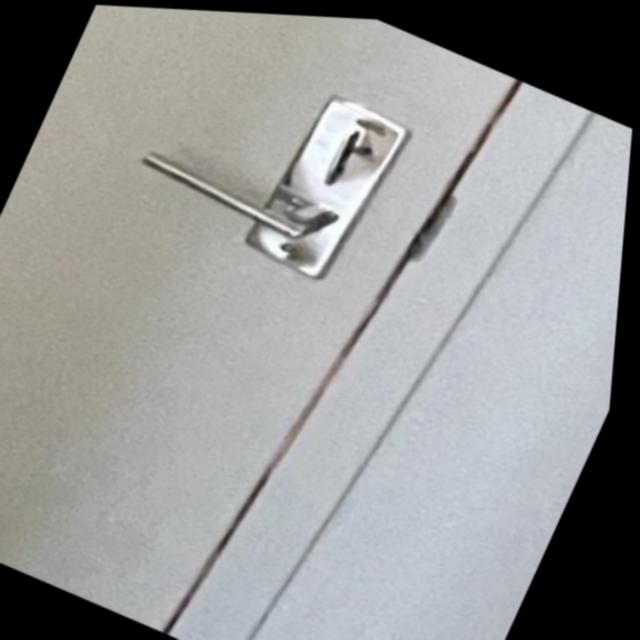door_handle: (106, 113, 377, 288)
